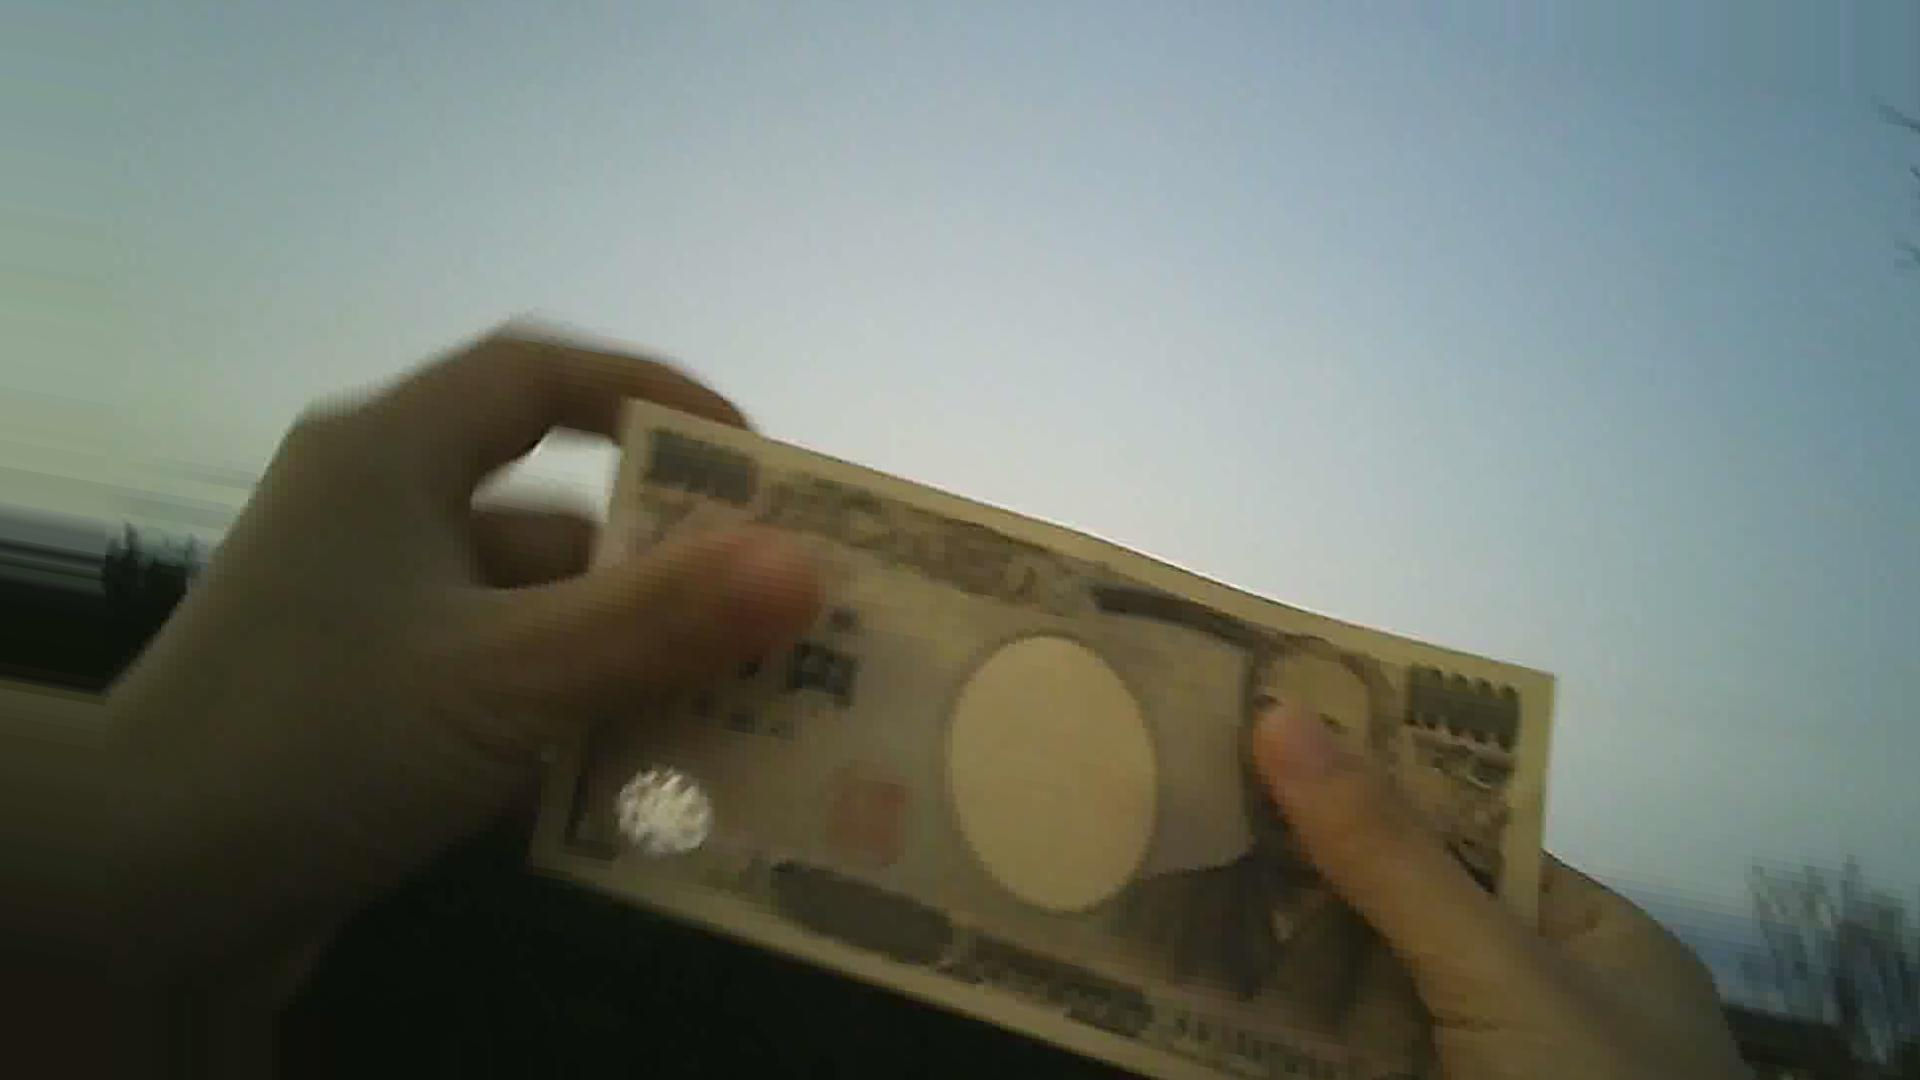10,000 Yen: (512, 369, 1571, 1079)
